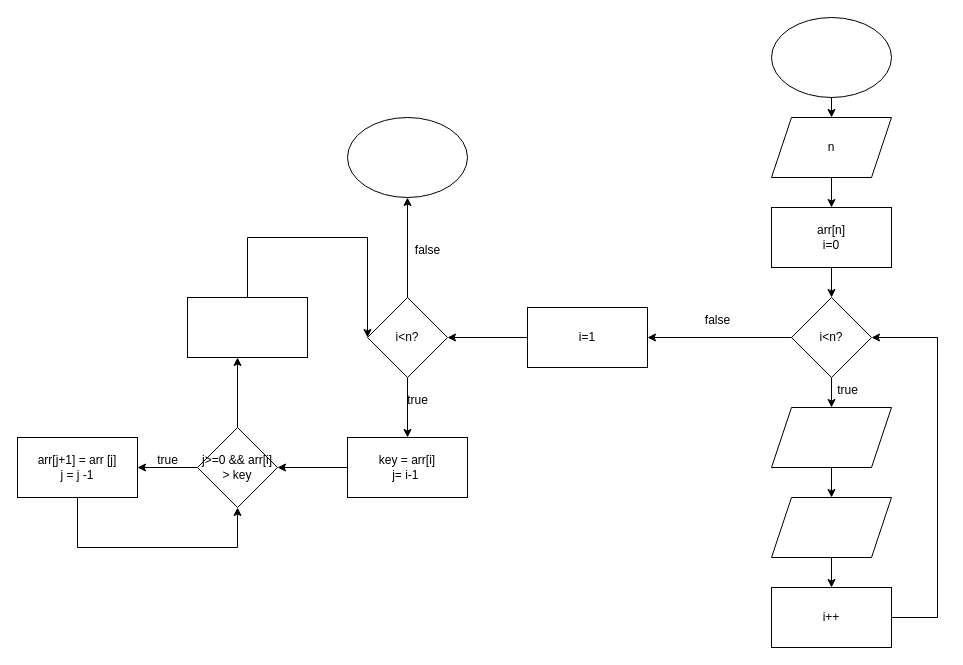
Some shapes in this 963 by 665 pixel diagram are drawn without their labels. Here are the shapes that lost their labels. From the top down, the centre of each, then its label:
point (831, 57): start
point (407, 157): end
point (247, 327): arr[j+1] = key
point (831, 437): arr[i] =
point (831, 527): nhap gia tri
